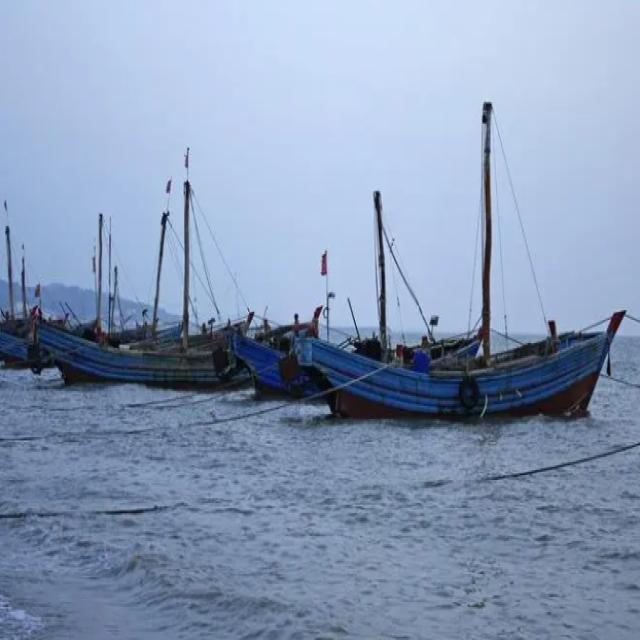fishing boat: (296, 191, 618, 415), (37, 240, 300, 387), (224, 258, 403, 404), (88, 213, 191, 356), (0, 253, 101, 362)
